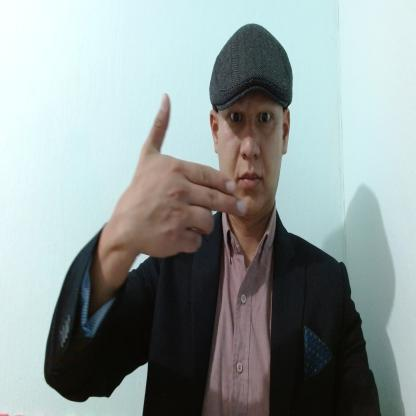H: (133, 92, 249, 256)
